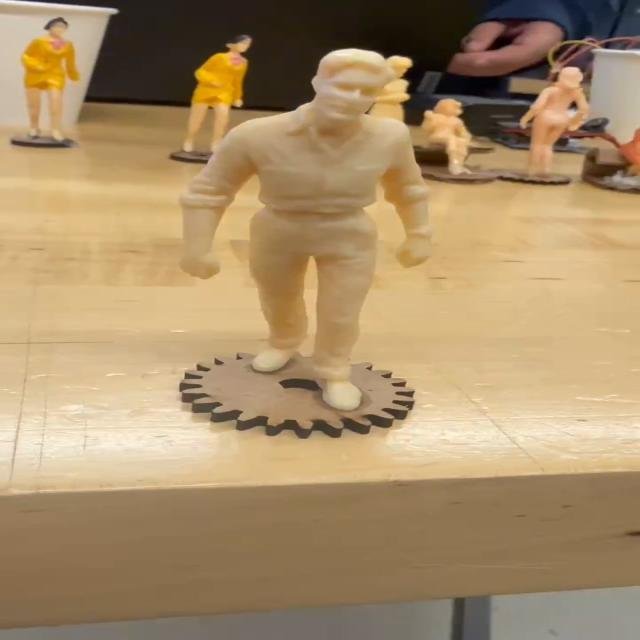Unauthorized: (150, 31, 452, 416)
